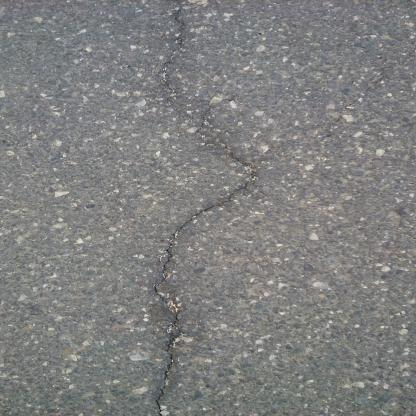Cracks: (129, 0, 264, 415)
